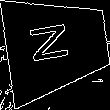N_E: (33, 22, 81, 70)
